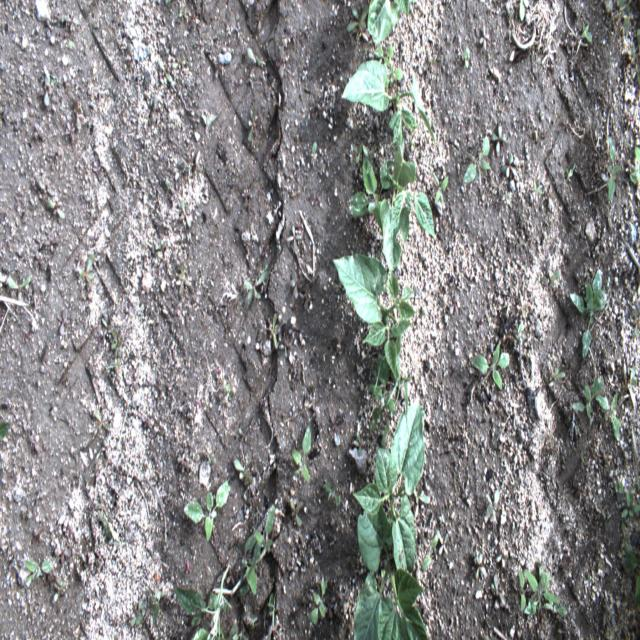crop: (351, 397, 424, 574), (332, 252, 416, 387), (353, 498, 428, 639), (341, 61, 437, 145), (379, 136, 436, 273), (368, 0, 410, 44)
weed: (174, 567, 232, 640), (570, 269, 608, 361), (348, 158, 392, 231), (183, 479, 228, 543), (368, 354, 396, 432), (469, 341, 510, 390), (524, 564, 560, 615), (235, 534, 261, 594), (386, 374, 412, 434), (570, 374, 604, 416), (462, 136, 492, 181), (595, 392, 621, 443), (242, 268, 270, 313), (292, 426, 310, 486), (605, 133, 620, 204), (252, 506, 274, 551), (22, 558, 57, 586), (418, 530, 440, 572), (309, 576, 325, 625), (347, 1, 369, 29), (621, 488, 640, 520), (78, 253, 95, 288), (433, 172, 449, 208), (9, 274, 31, 300), (492, 574, 508, 608), (374, 38, 393, 66), (102, 511, 119, 542), (382, 62, 403, 87), (95, 407, 113, 432), (491, 124, 507, 152), (617, 0, 629, 37), (131, 598, 145, 629), (629, 144, 640, 183), (501, 152, 518, 177), (47, 198, 66, 220), (290, 497, 304, 526), (95, 495, 110, 521), (486, 489, 501, 515), (540, 269, 561, 287), (143, 596, 158, 621), (325, 481, 340, 506), (270, 313, 280, 349), (412, 484, 430, 504), (518, 568, 526, 613), (111, 326, 121, 360), (549, 599, 568, 616), (622, 522, 632, 554), (629, 365, 636, 410), (548, 368, 565, 386), (623, 549, 639, 568), (634, 30, 640, 80), (180, 200, 191, 227), (290, 272, 301, 298), (248, 107, 256, 142), (578, 21, 592, 41), (475, 554, 486, 579), (354, 432, 364, 459), (43, 70, 50, 108), (379, 420, 389, 446), (49, 574, 66, 589), (438, 532, 449, 555), (234, 458, 246, 478), (178, 261, 185, 295), (634, 571, 640, 608), (352, 144, 363, 164), (627, 44, 638, 64), (519, 1, 529, 20), (1, 421, 12, 438), (533, 178, 544, 195), (462, 46, 470, 69), (480, 28, 489, 48), (615, 479, 624, 495), (568, 162, 576, 179), (311, 140, 317, 162), (518, 319, 524, 335)
